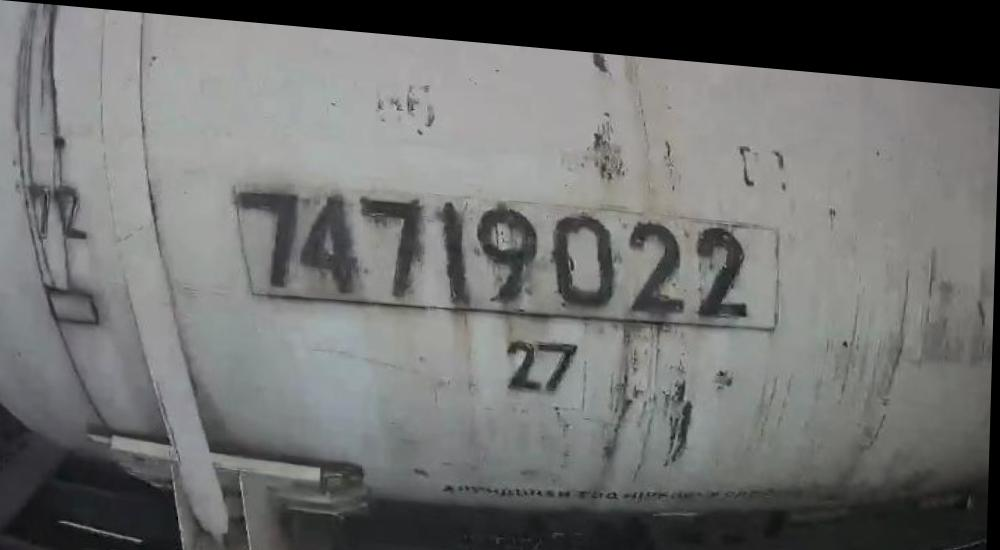Wagon-number: (231, 174, 761, 320)
